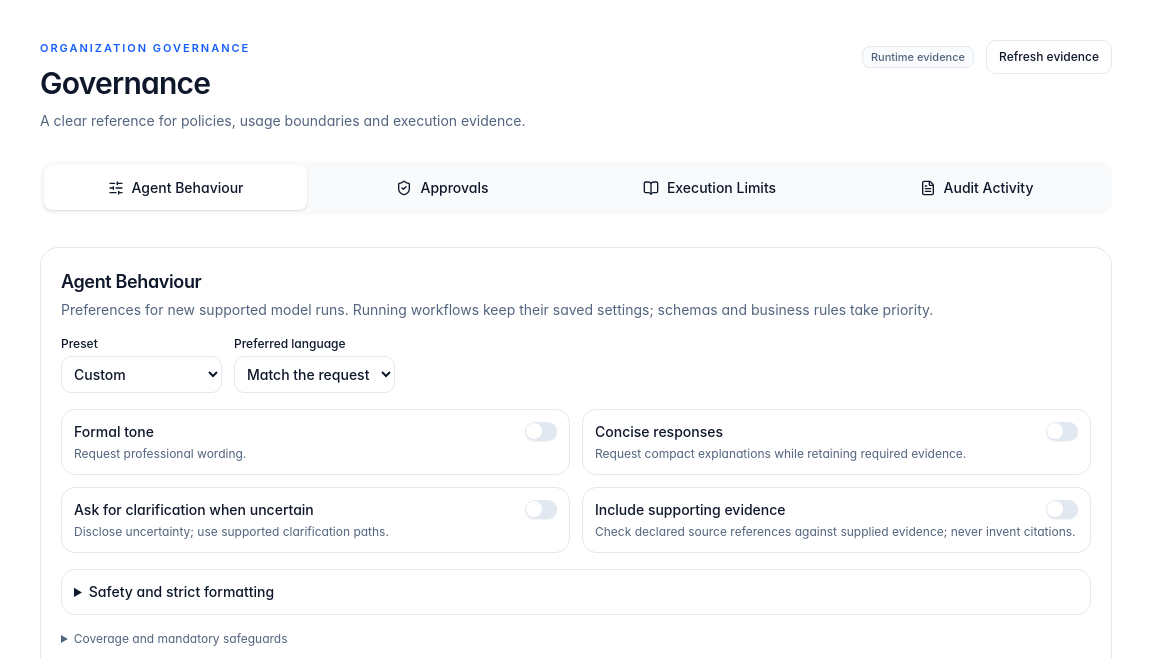
Test case: opens compact Agent Behaviour with four focused tabs and separate approval information
Expected: the dropdown labelled "Preferred language" is enabled, [234,356,395,392]
Press the mouse on the tab "Approvals" at (442, 188), box [311,165,574,210]
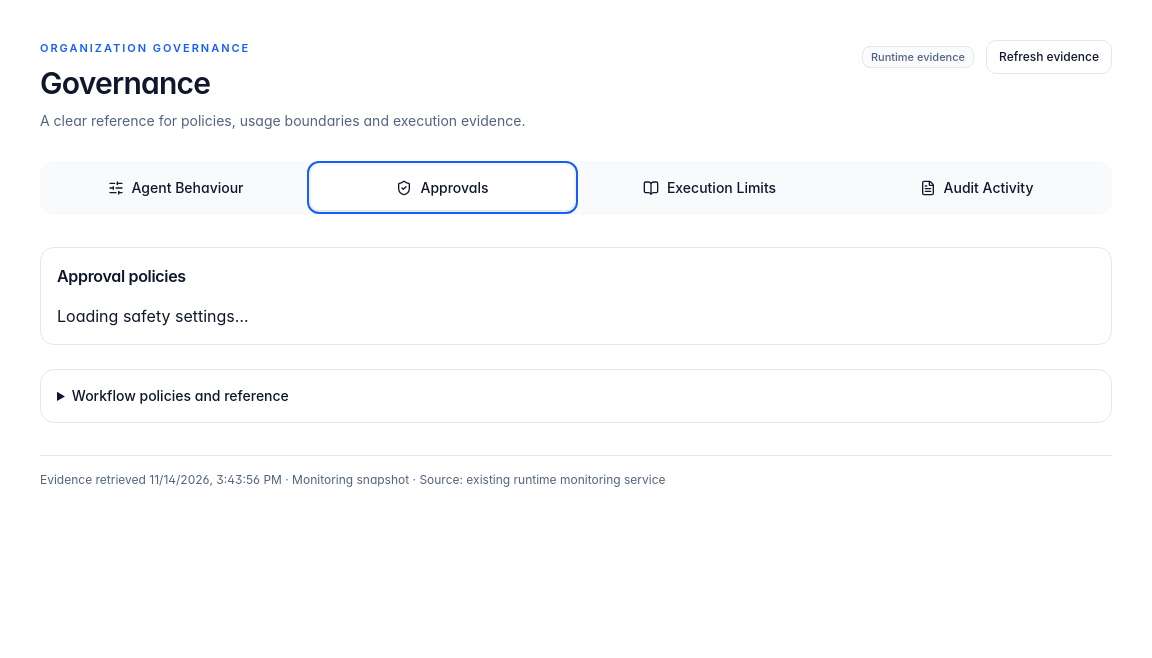
Click the heading "Workflow policies and reference".
click(180, 395)  # box [72,386,289,404]
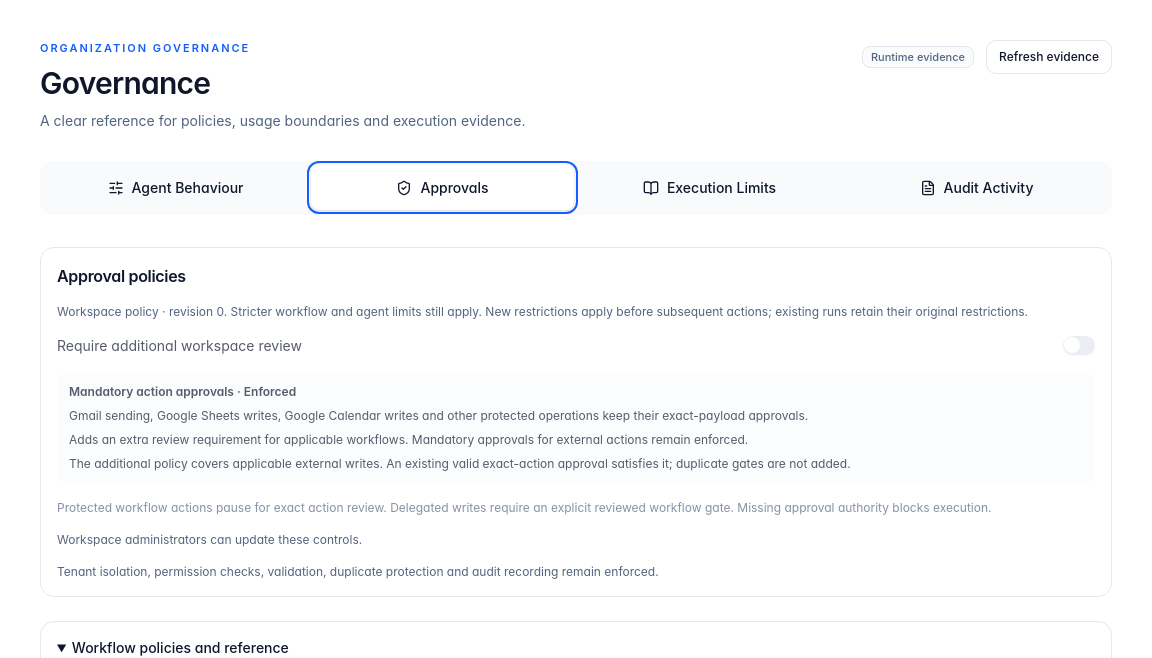
Now the text "Mandatory action approvals · Enforced" is shown, box [69,384,296,398]
